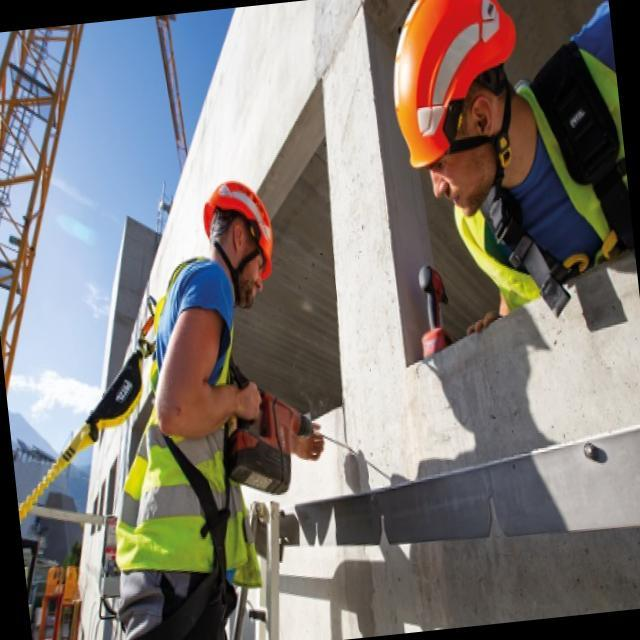helmet: (379, 0, 536, 228)
vest: (429, 32, 640, 374), (80, 246, 270, 609)
